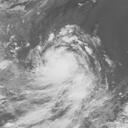cyclone: (40, 49, 81, 90)
